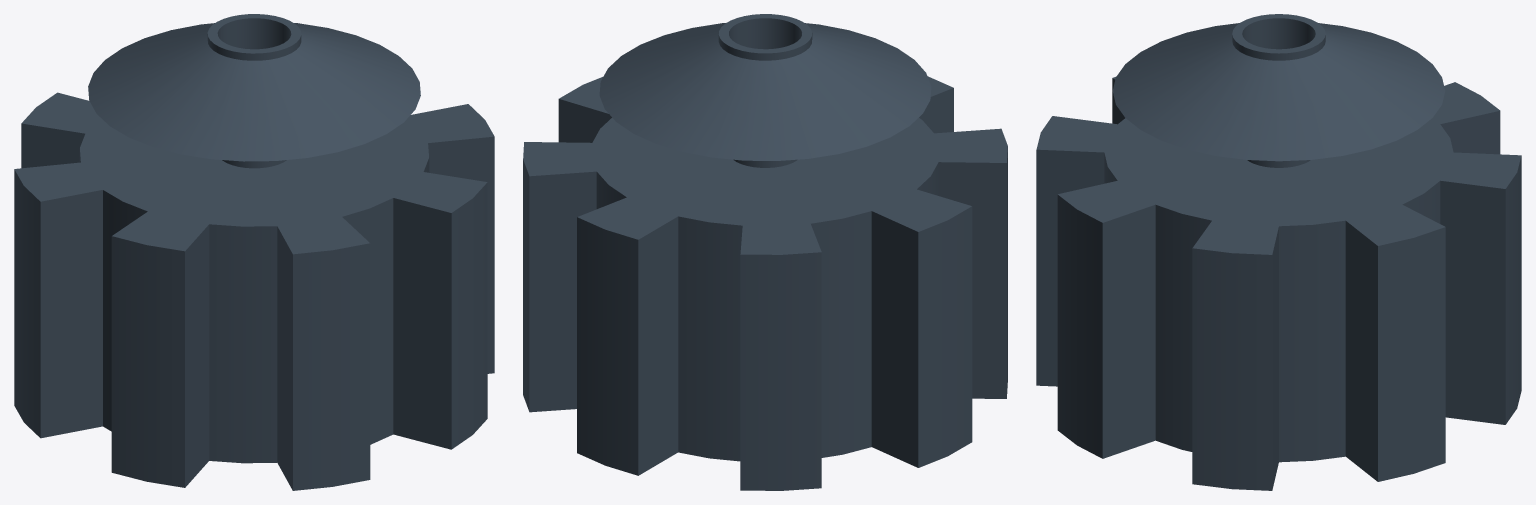
File: SM_Portal_Room.fbx
The picture shows the model from 3 angles, left to right: view 1: azimuth 30°, elevation 25°; view 2: azimuth 150°, elevation 25°; view 3: azimuth 270°, elevation 25°; orthographic projection.
Visible parts, largest first — view 1: SM_Portal_Room; view 2: SM_Portal_Room; view 3: SM_Portal_Room.
Boxes of the visible parts, x1=… form: SM_Portal_Room: x1=14, y1=14, x2=494, y2=490; SM_Portal_Room: x1=523, y1=14, x2=1007, y2=490; SM_Portal_Room: x1=1036, y1=14, x2=1521, y2=490.
Bounding box in the file's own units: 2778 × 2608 × 2778.
